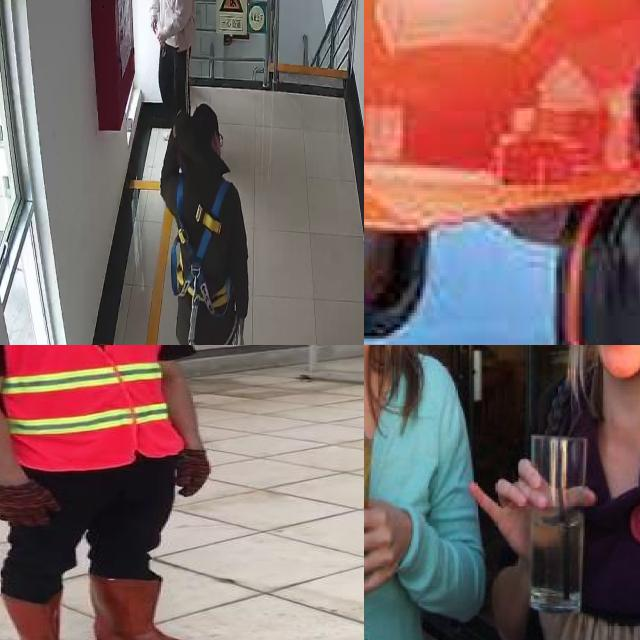Ear-protection: (550, 47, 640, 345)
Harness: (170, 167, 232, 312)
boots: (88, 569, 205, 640), (2, 589, 95, 640)
hand_glove: (0, 483, 63, 527), (180, 448, 210, 498)
hand_noglove: (464, 458, 602, 537), (364, 498, 405, 598)
person: (0, 345, 242, 640), (498, 345, 640, 640), (364, 345, 492, 640)
vest: (0, 345, 182, 469)
